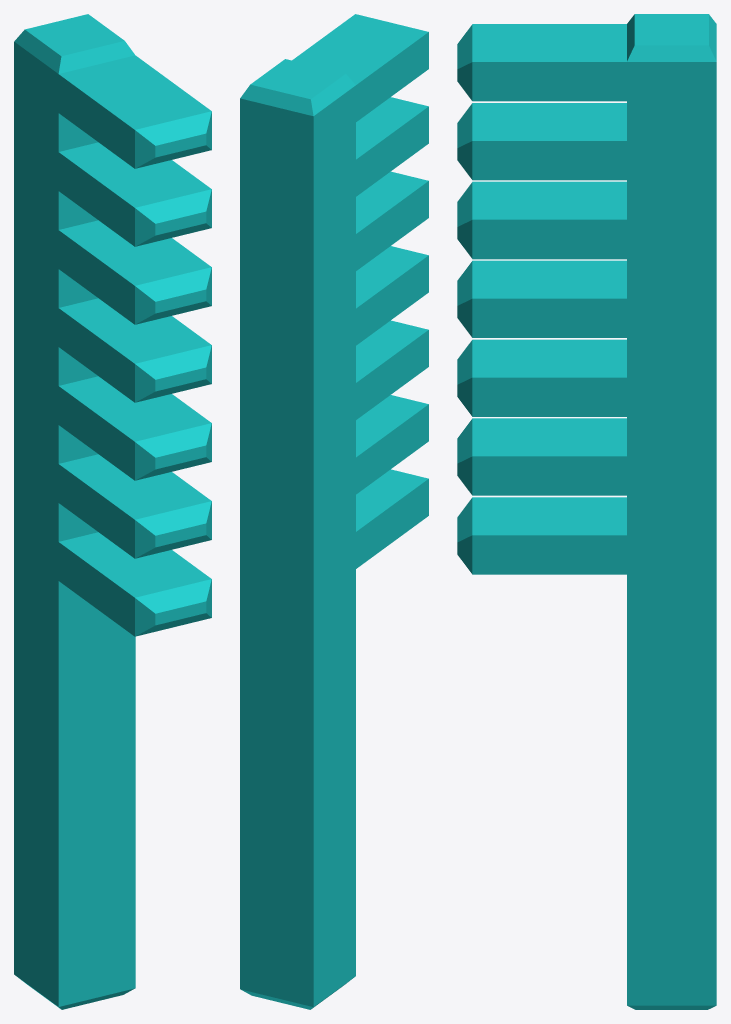
Rendered from Peine01.fbx.
3 views of the same model, side by side, from view 1: azimuth 30°, elevation 25°; view 2: azimuth 150°, elevation 25°; view 3: azimuth 270°, elevation 25° (orthographic). The views are drawn at different scales.
Parts seen in each view (by area): view 1: Peine02; view 2: Peine02; view 3: Peine02.
Part boxes in pixels (bbox=[...]): Peine02: bbox=[14, 14, 211, 1009]; Peine02: bbox=[240, 14, 428, 1009]; Peine02: bbox=[457, 14, 716, 1009].
Bounding box in the file's own units: 0.0153 × 0.1811 × 0.0441.
